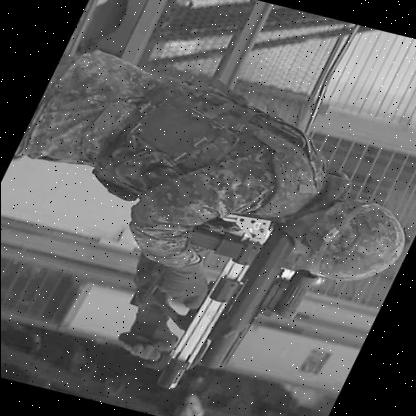rifle: (131, 201, 306, 402)
